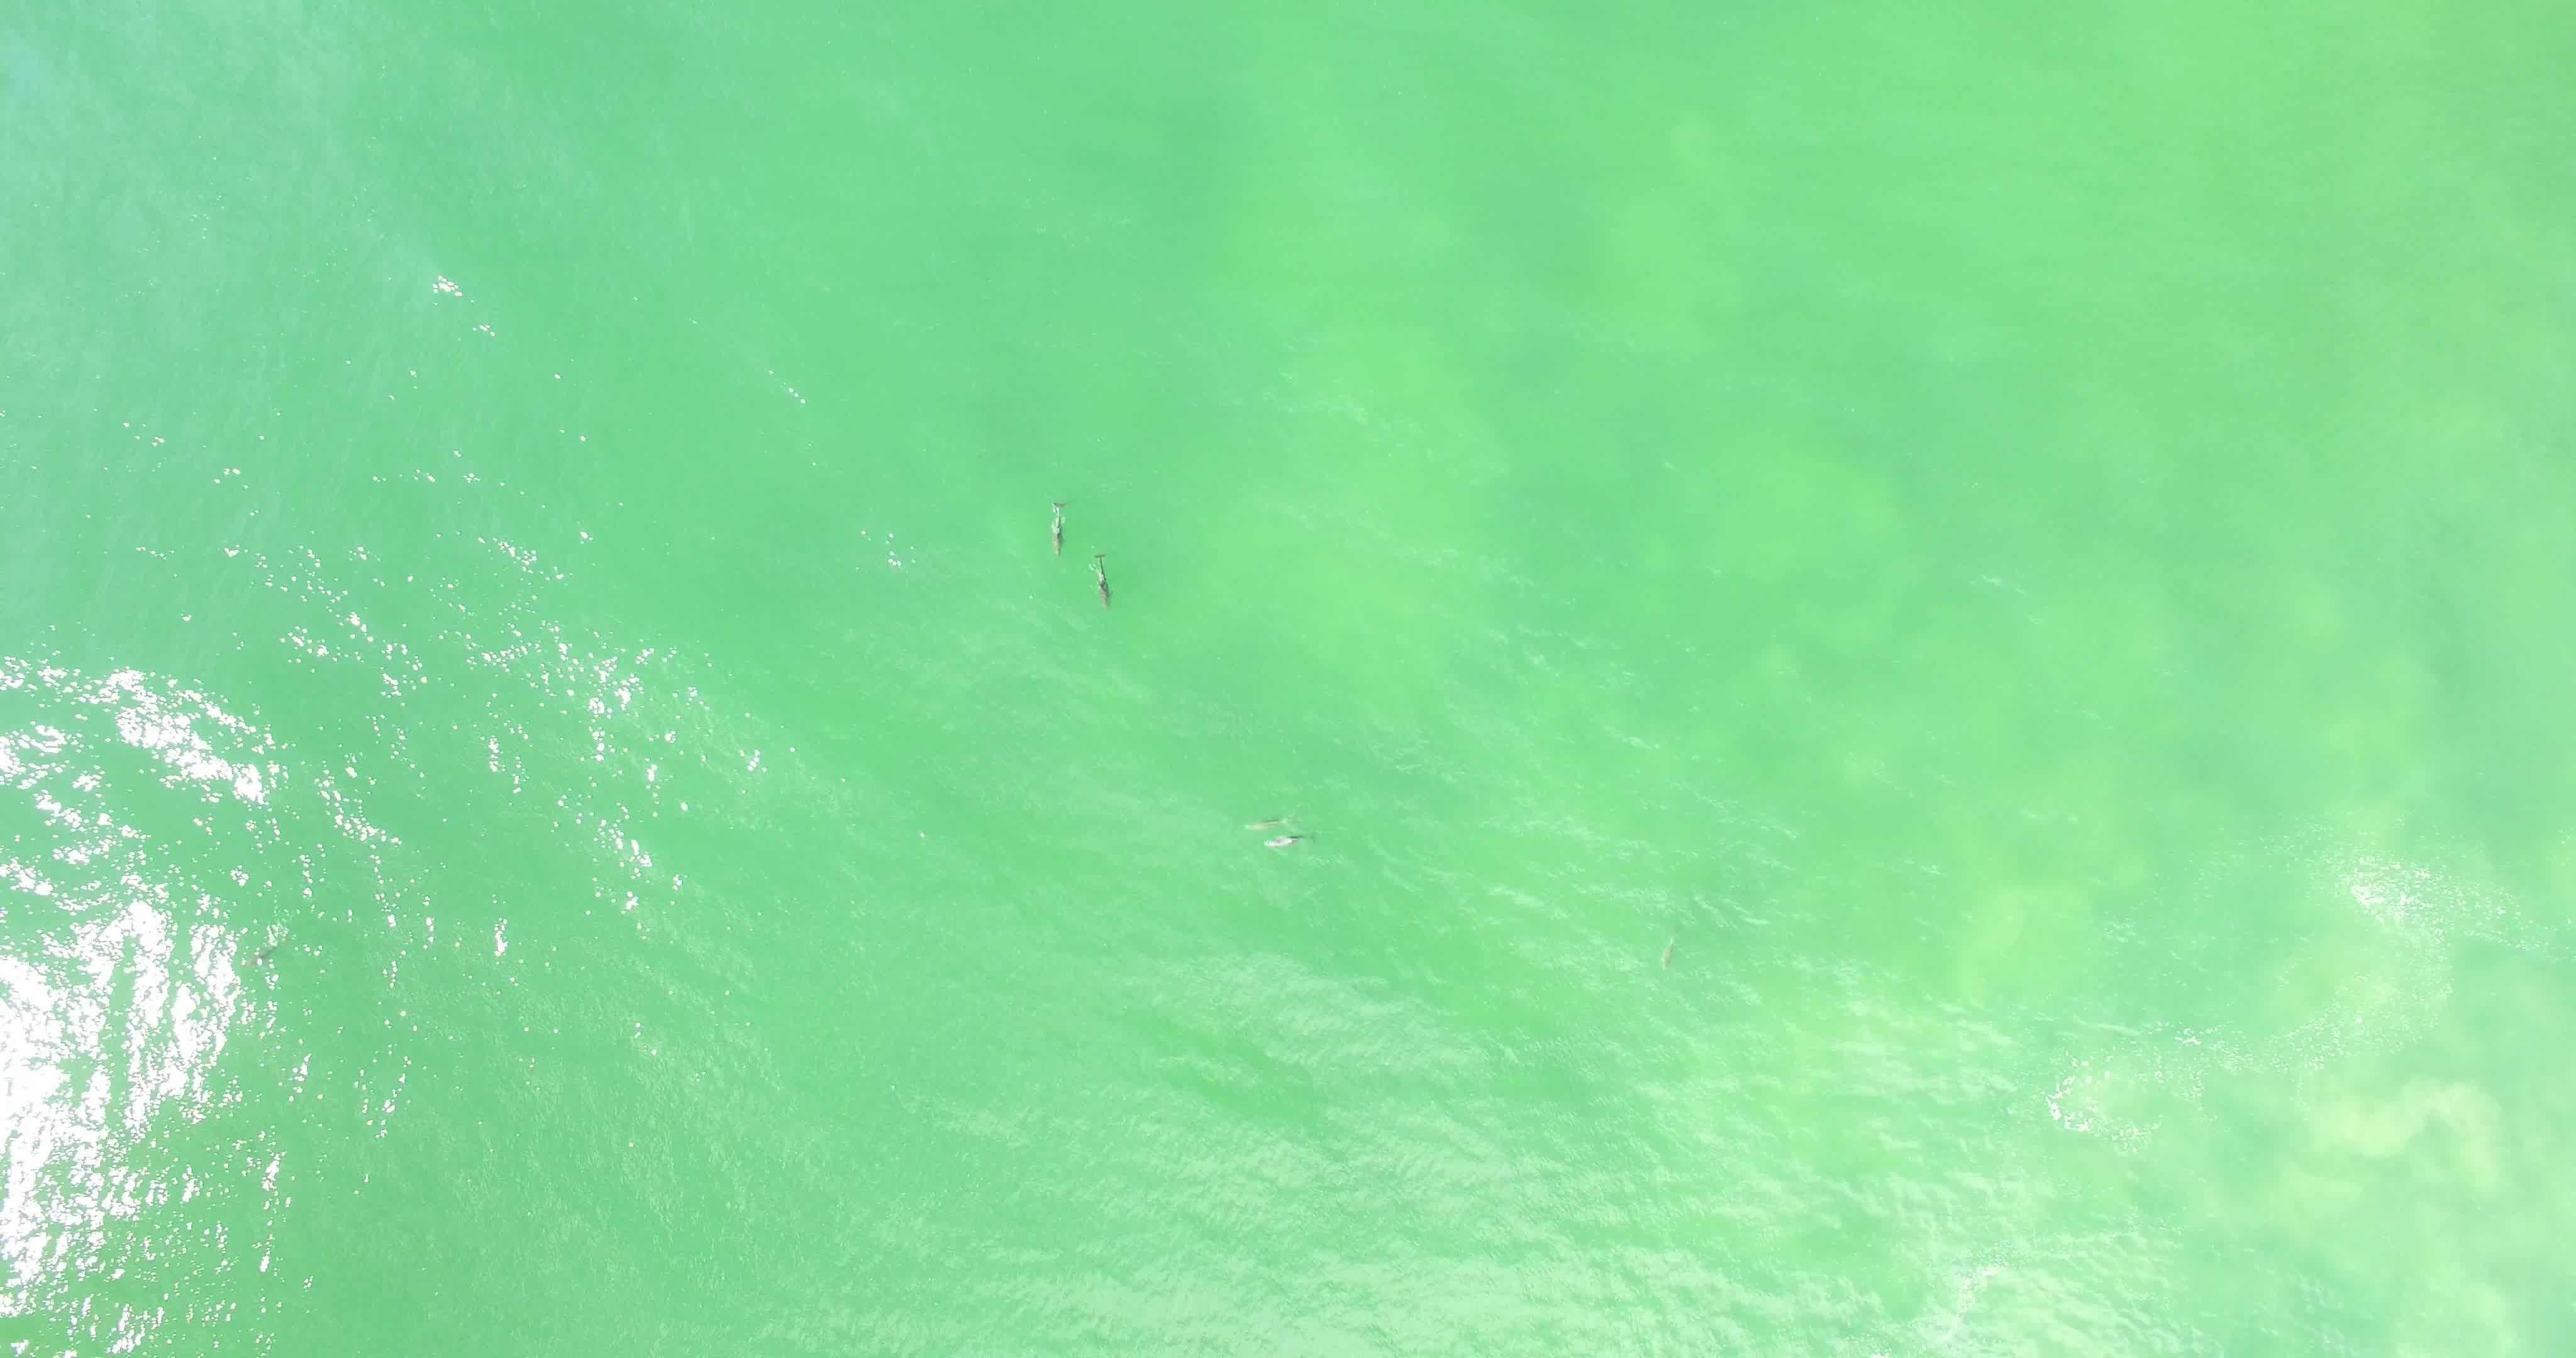dolphin: (1022, 479, 1077, 567), (1078, 516, 1123, 619), (1232, 813, 1315, 864), (1636, 910, 1695, 971), (1233, 799, 1297, 833)
